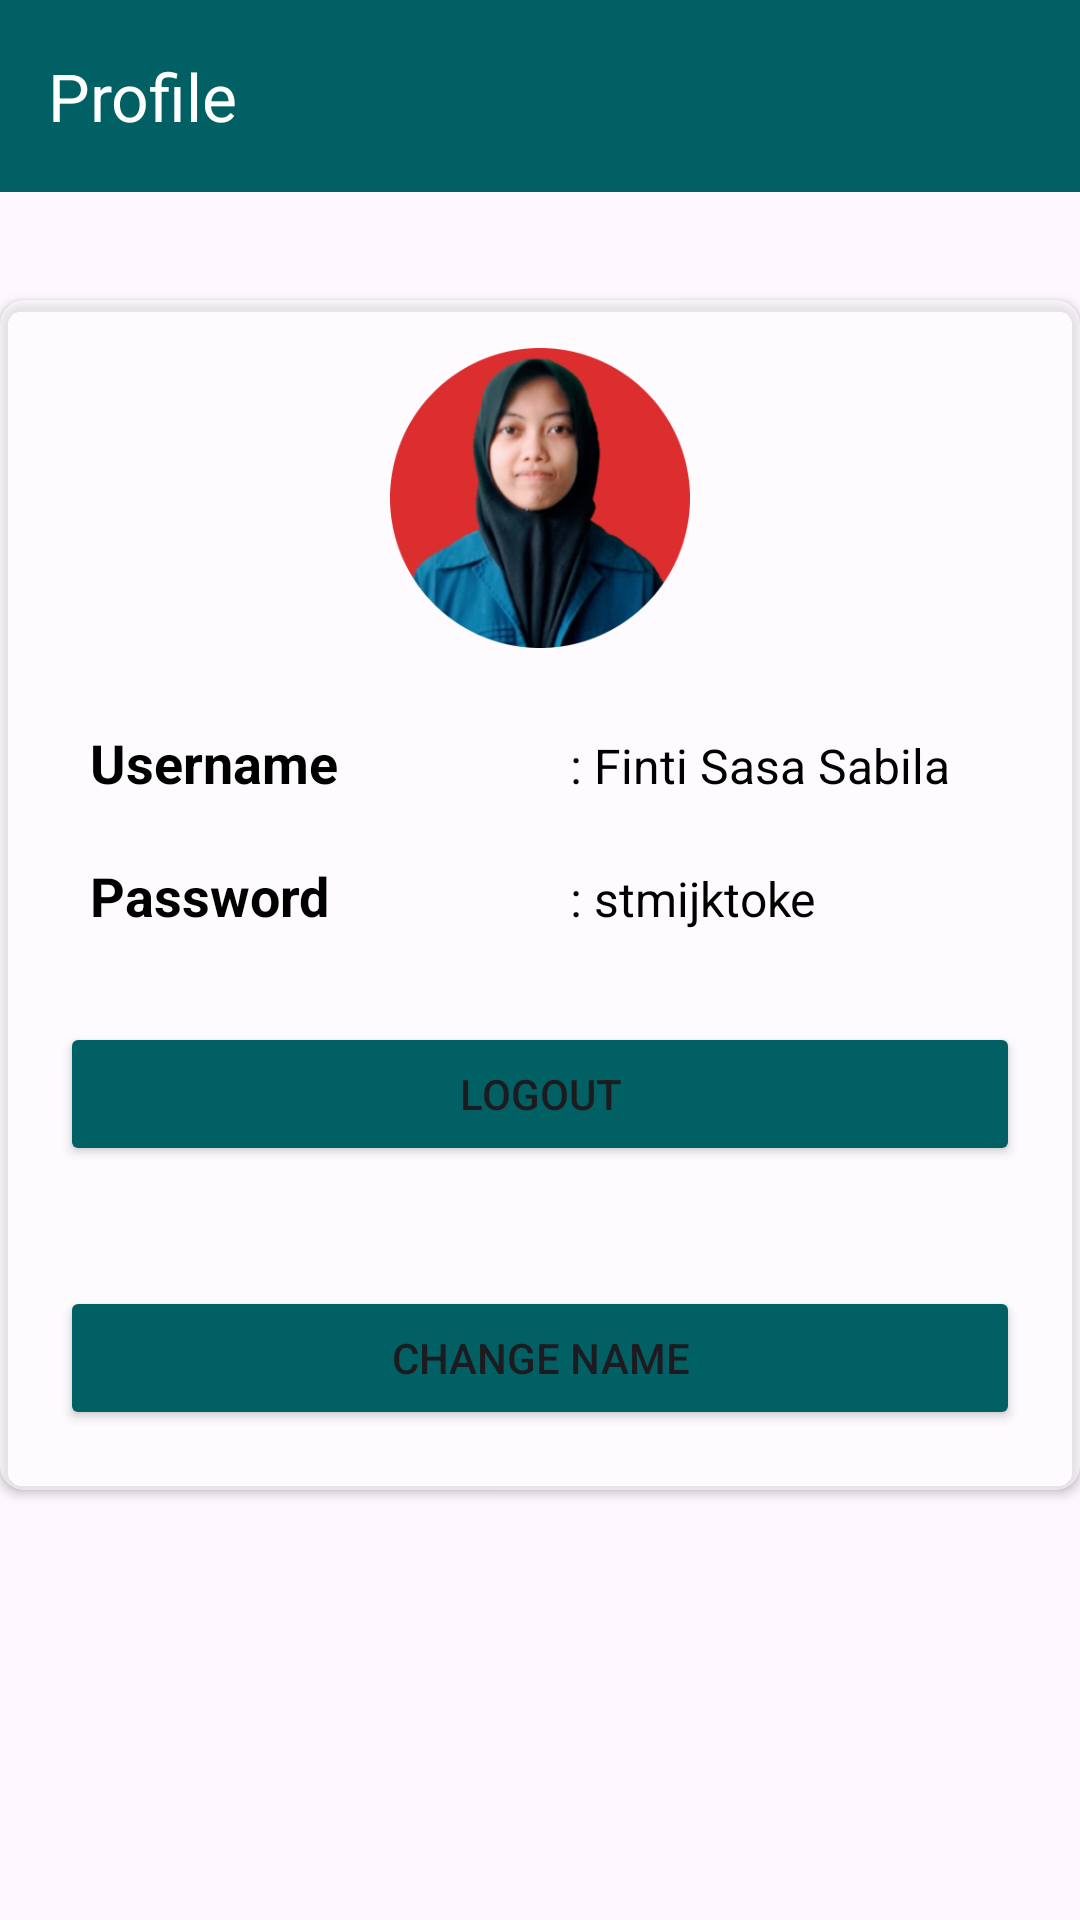

Icon bounding boxes for this 1080×1920 phone screenshot, format region(x1, y1, x2, y2):
fotoprofile: region(390, 348, 690, 648)
